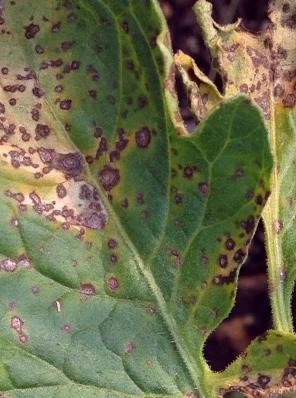Tomato Septoria leaf spot: (0, 0, 296, 398), (139, 0, 296, 303)
